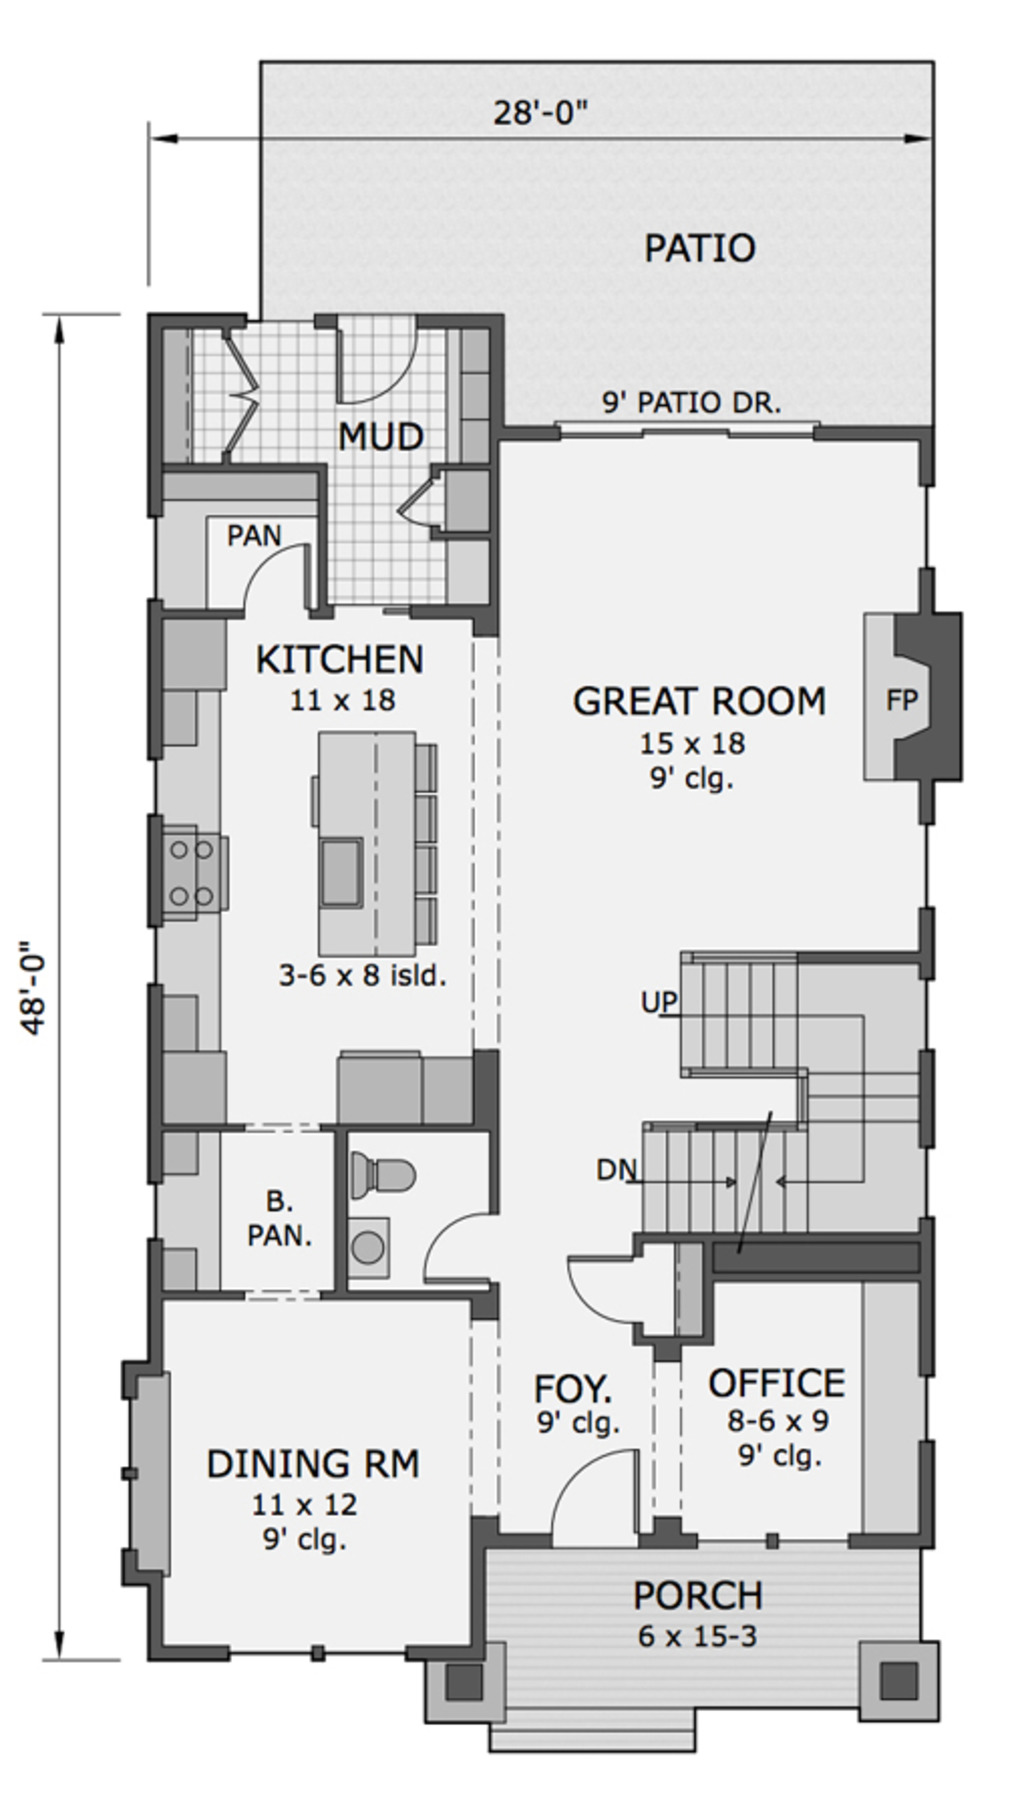door: (552, 1235, 725, 1369), (550, 1429, 662, 1559), (328, 308, 433, 412), (193, 335, 265, 466), (416, 1207, 516, 1299), (228, 532, 322, 624), (389, 461, 455, 532)
kitchen_bar: (285, 729, 468, 998)
large_sink: (342, 1146, 428, 1209)
small_sink: (342, 1207, 393, 1295)
stairs: (579, 947, 924, 1226)
